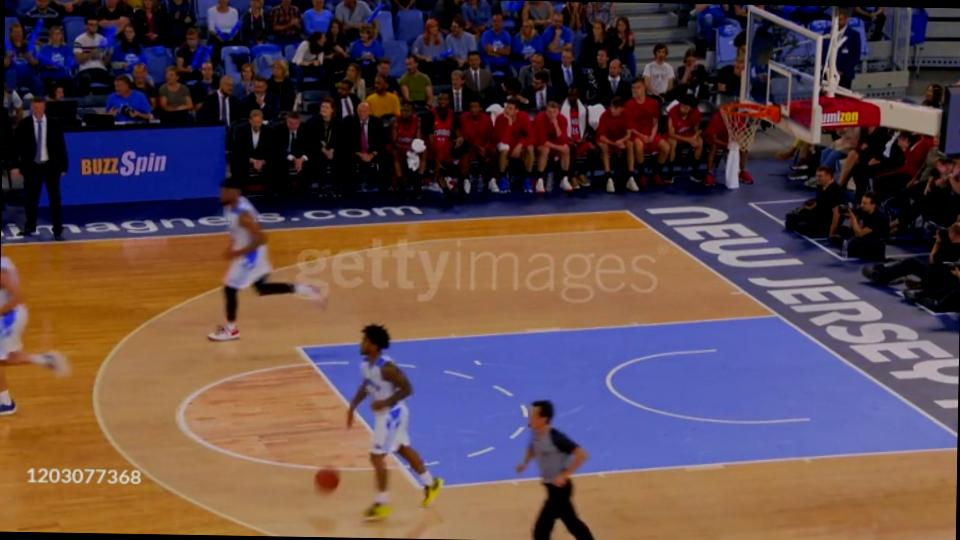hoop: (717, 100, 787, 126)
